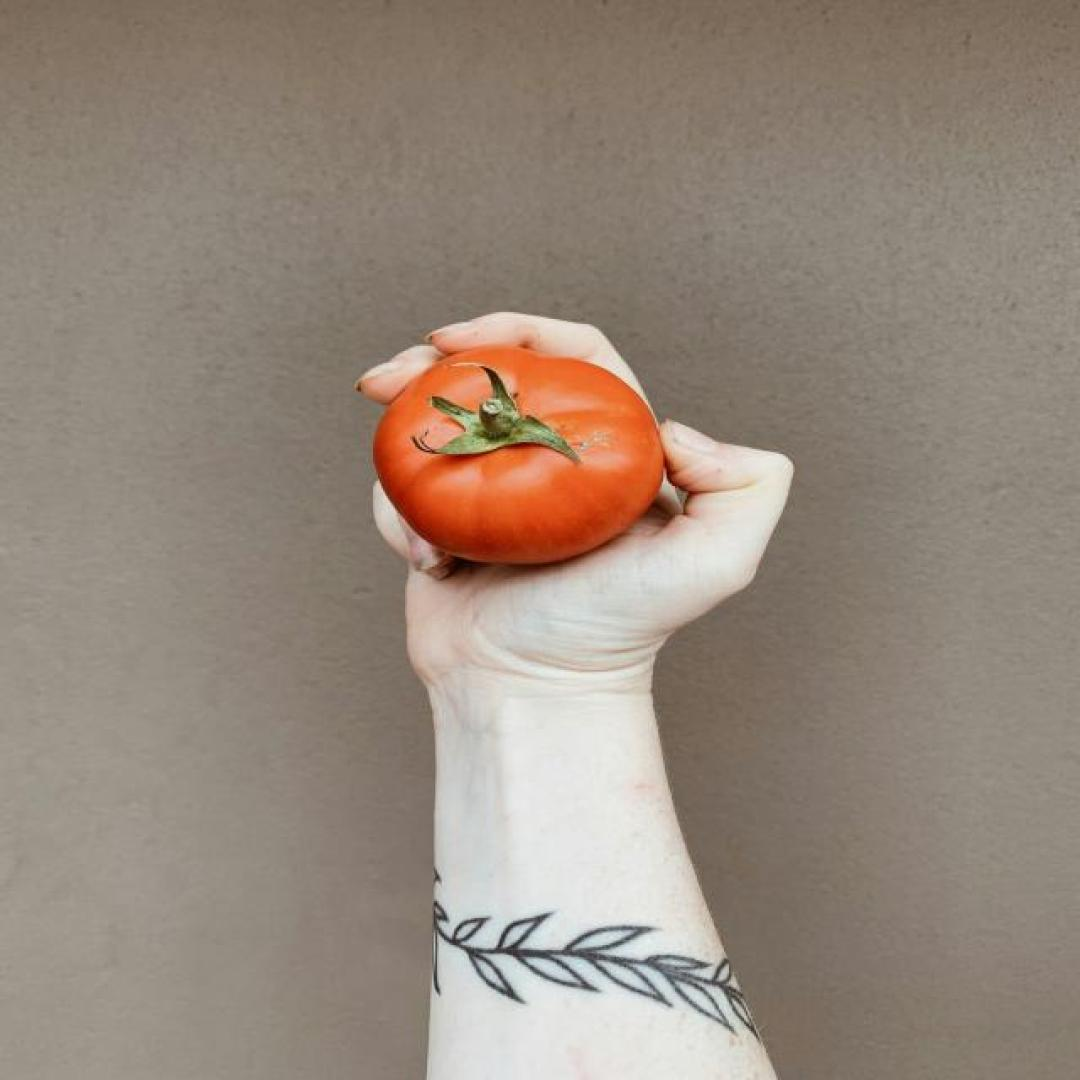matang: (373, 346, 665, 564)
